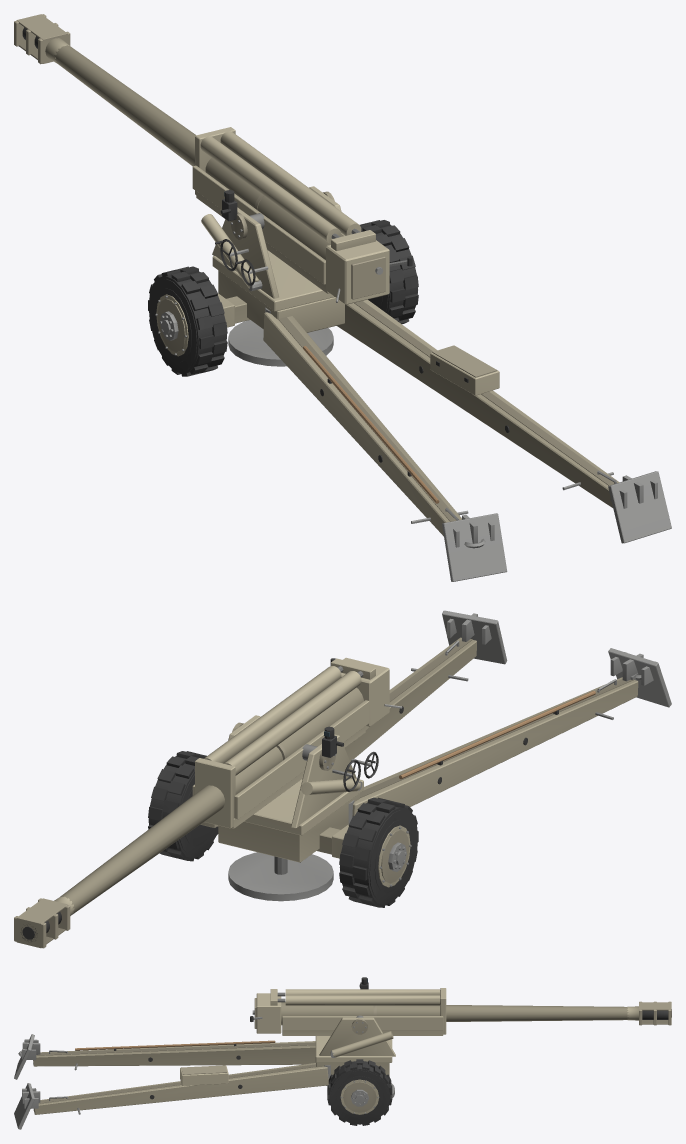
File: usa_tow_m198.glb
3 renders of one model, top to bottom at view 1: azimuth 30°, elevation 25°; view 2: azimuth 150°, elevation 25°; view 3: azimuth 270°, elevation 25°, orthographic. The views are drawn at different scales.
Parts seen in each view (by area): view 1: body, barrel, wheel_0, turret, wheel_1; view 2: body, barrel, wheel_0, turret, wheel_1; view 3: body, barrel, wheel_1, turret.
Boxes of the visible parts, bbox=[...] form: body: bbox=[218, 270, 671, 581]; barrel: bbox=[14, 14, 412, 304]; wheel_0: bbox=[148, 266, 227, 376]; turret: bbox=[201, 186, 341, 311]; wheel_1: bbox=[360, 220, 418, 324]; body: bbox=[200, 610, 671, 901]; barrel: bbox=[14, 657, 402, 948]; wheel_0: bbox=[339, 797, 418, 907]; turret: bbox=[228, 715, 378, 835]; wheel_1: bbox=[148, 751, 218, 861]; body: bbox=[14, 1034, 394, 1129]; barrel: bbox=[250, 988, 671, 1035]; wheel_1: bbox=[327, 1059, 392, 1125]; turret: bbox=[315, 977, 395, 1062].
Size of the model in its own units: 2.84 by 1.97 by 11.2.
